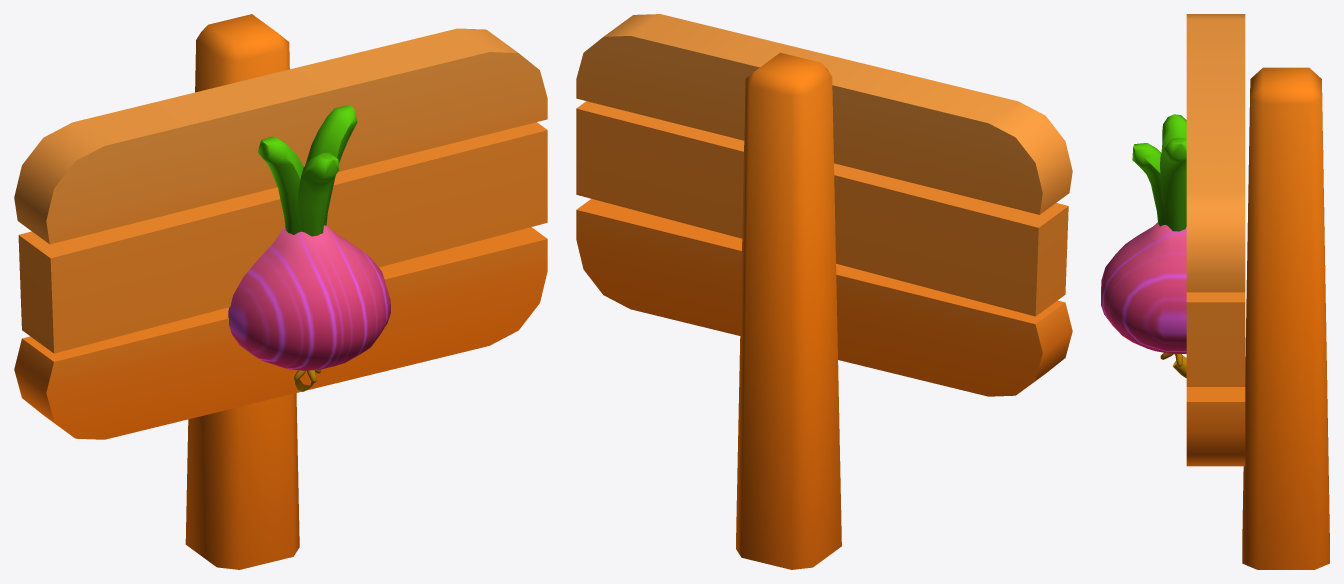
The model's file is Farm_Crop_Sign_Onion_01.fbx.
3 views of the same model, side by side, from view 1: azimuth 30°, elevation 25°; view 2: azimuth 150°, elevation 25°; view 3: azimuth 270°, elevation 25° (orthographic). The views are drawn at different scales.
Visible parts, largest first — view 1: Farm_Crop_Sign_Onion_01; view 2: Farm_Crop_Sign_Onion_01; view 3: Farm_Crop_Sign_Onion_01.
Part boxes in pixels (box(x1,y1,x2,y2)): Farm_Crop_Sign_Onion_01: box(14, 14, 547, 569); Farm_Crop_Sign_Onion_01: box(576, 14, 1072, 569); Farm_Crop_Sign_Onion_01: box(1101, 14, 1329, 569).
Bounding box in the file's own units: 90.11 × 88.8 × 38.88.
